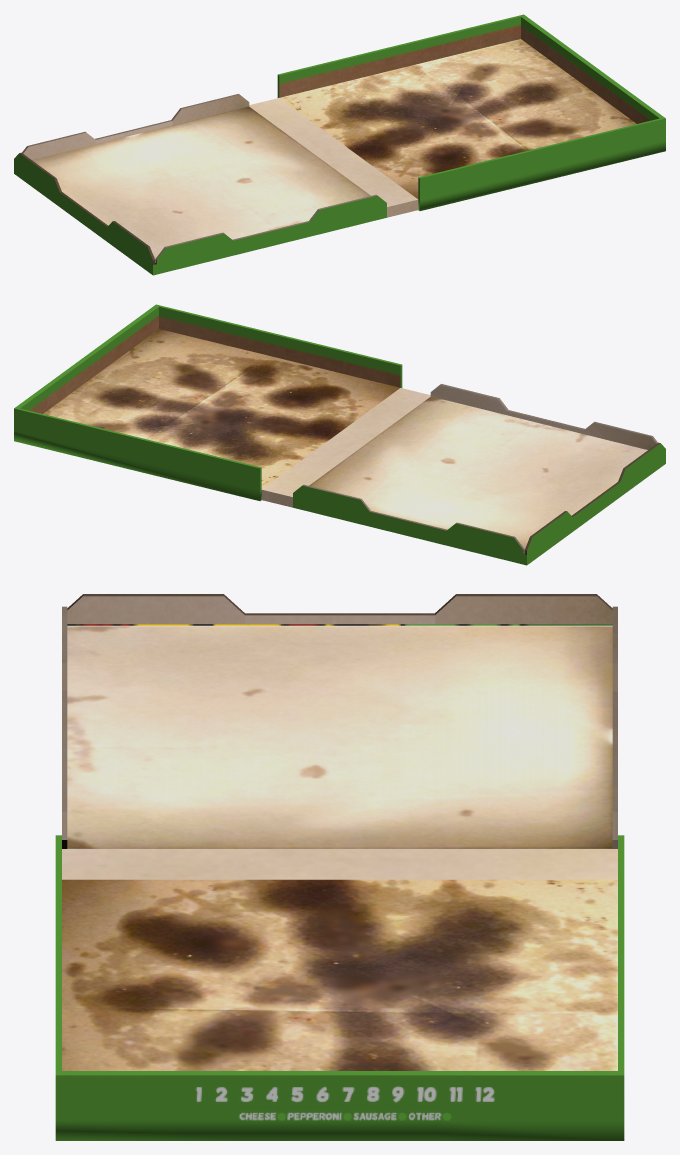
The model's file is PizzaBox.fbx.
3 views of the same model, one above another, from view 1: azimuth 30°, elevation 25°; view 2: azimuth 150°, elevation 25°; view 3: azimuth 270°, elevation 25° (orthographic). The views are drawn at different scales.
Visible parts, largest first — view 1: Pizza_Box.001_Pizza_Box.002; view 2: Pizza_Box.001_Pizza_Box.002; view 3: Pizza_Box.001_Pizza_Box.002.
Part boxes in pixels (bbox=[...]): Pizza_Box.001_Pizza_Box.002: bbox=[14, 14, 665, 275]; Pizza_Box.001_Pizza_Box.002: bbox=[14, 304, 665, 565]; Pizza_Box.001_Pizza_Box.002: bbox=[55, 594, 624, 1140].
Size of the model in its own units: 416 by 25.93 by 200.
